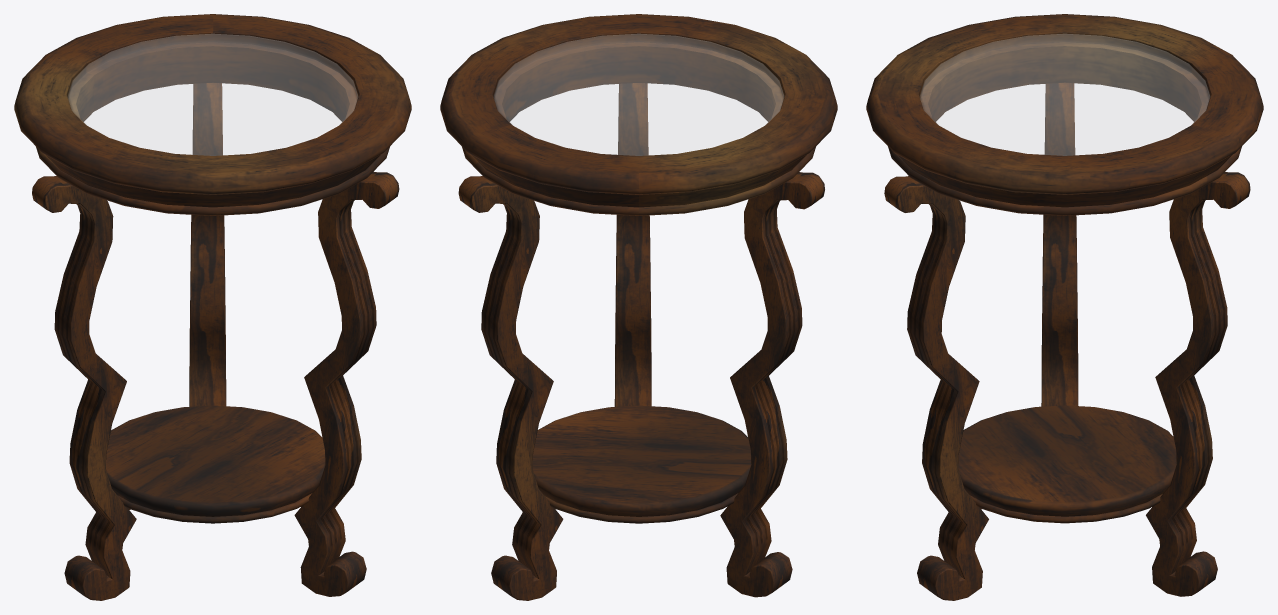
File: side_table_glass.fbx
3 renders of one model, left to right at view 1: azimuth 30°, elevation 25°; view 2: azimuth 150°, elevation 25°; view 3: azimuth 270°, elevation 25°, orthographic.
Parts seen in each view (by area): view 1: table_set_side_table; view 2: table_set_side_table; view 3: table_set_side_table.
Part boxes in pixels (x1,y1,x2,y2): table_set_side_table: [14, 14, 411, 600]; table_set_side_table: [440, 14, 837, 600]; table_set_side_table: [866, 14, 1263, 600].
Size of the model in its own units: 61.5 by 78.88 by 60.62.
